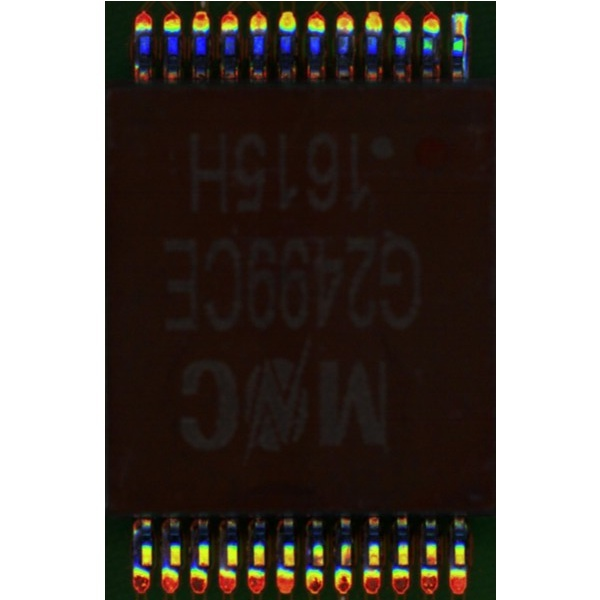Bad_podu: (462, 39, 467, 77)
Bad_qiaojiao: (454, 24, 464, 46)
